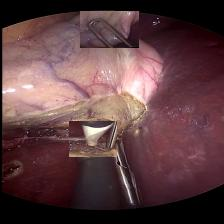Grasper: (103, 127, 144, 199), (79, 11, 138, 48)
Hook: (68, 121, 115, 157)
